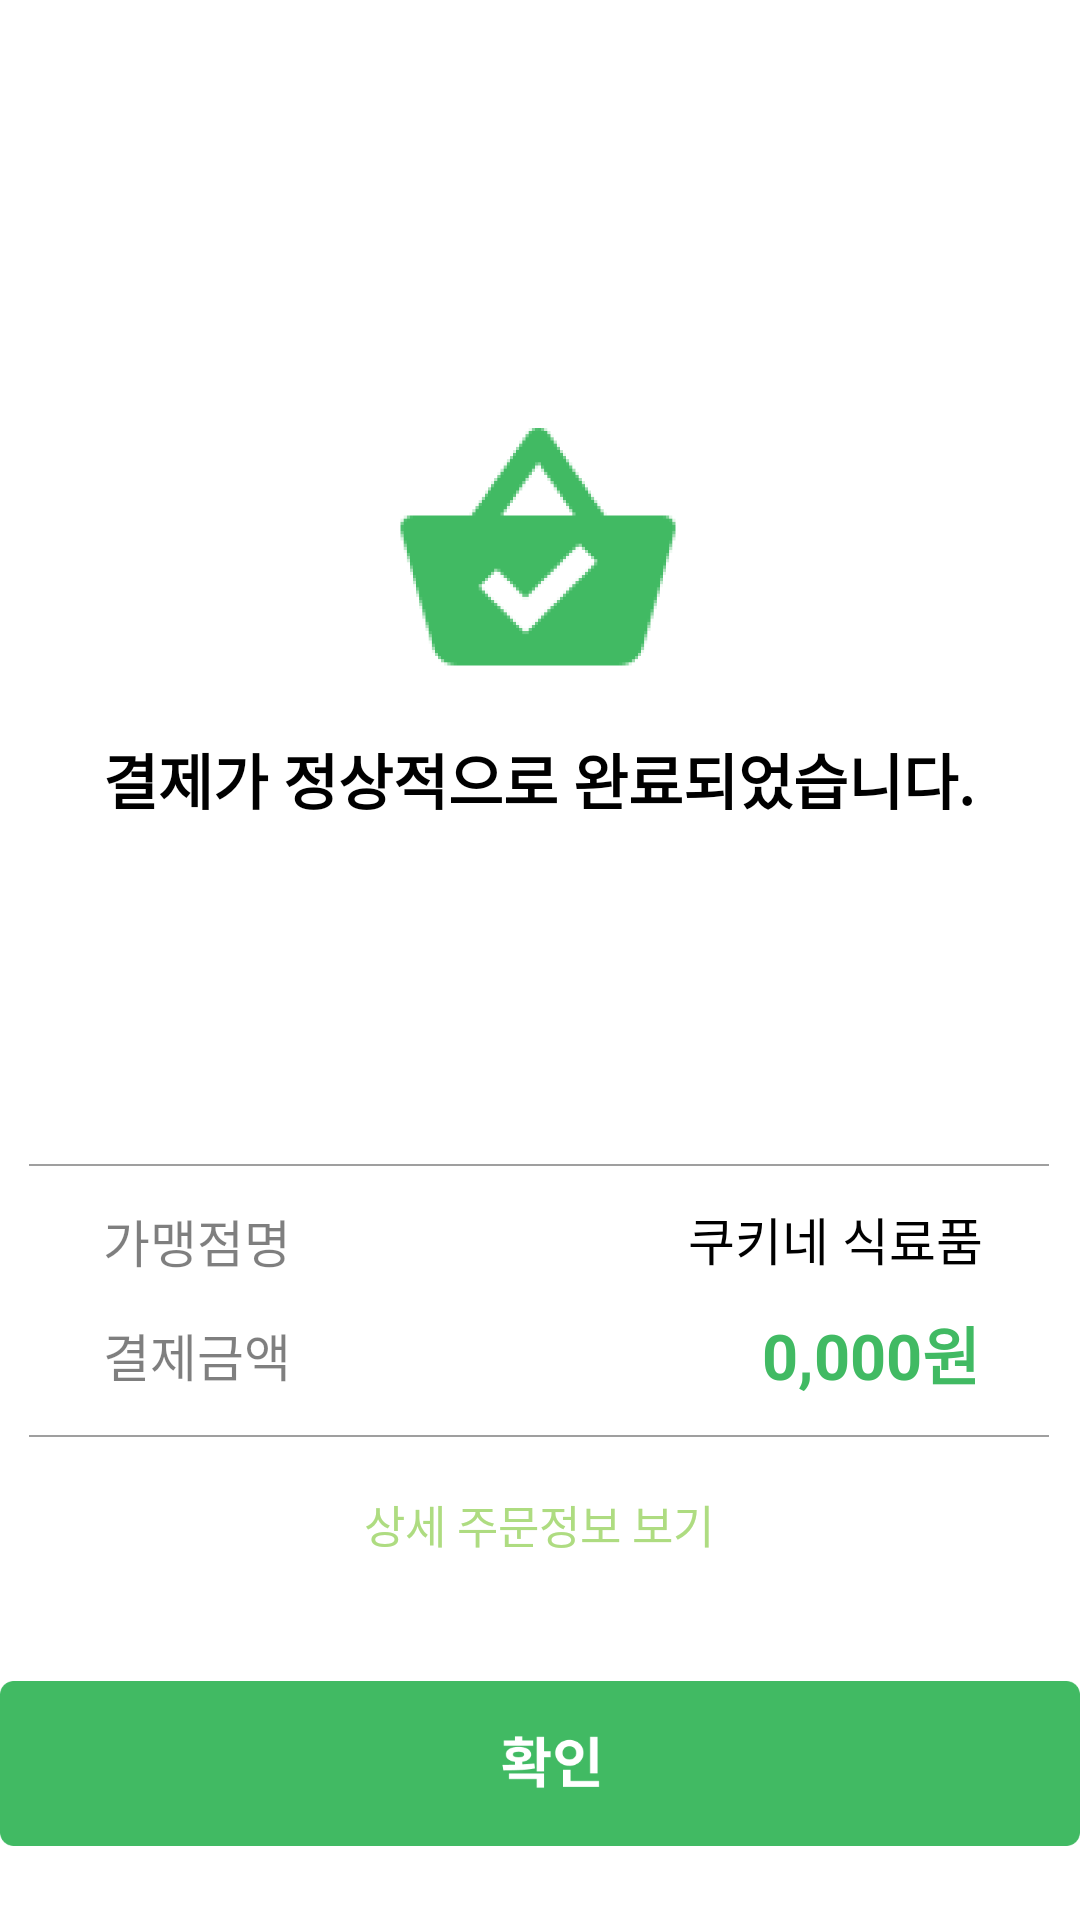

Icons on this 1080x1920 Android screen, each with the point to tap as (x=x, y=y):
checked basket: (x=538, y=547)
